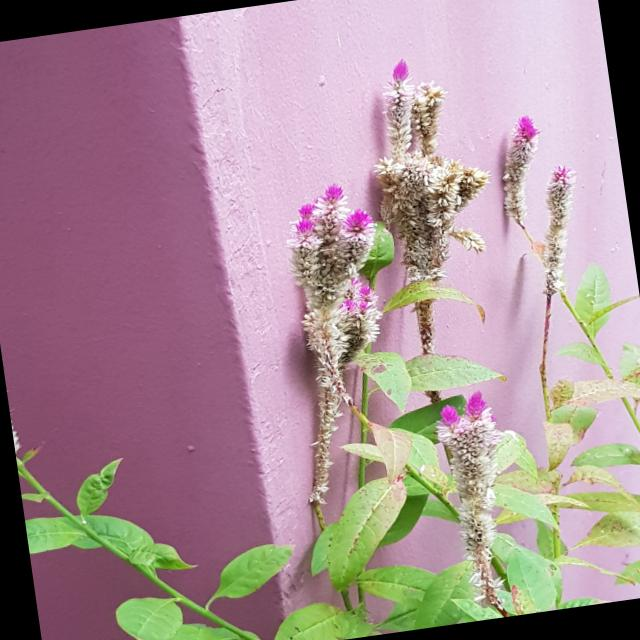Celosia-Argentea: (342, 31, 493, 310), (252, 166, 395, 392), (416, 392, 530, 598), (494, 89, 594, 292)
